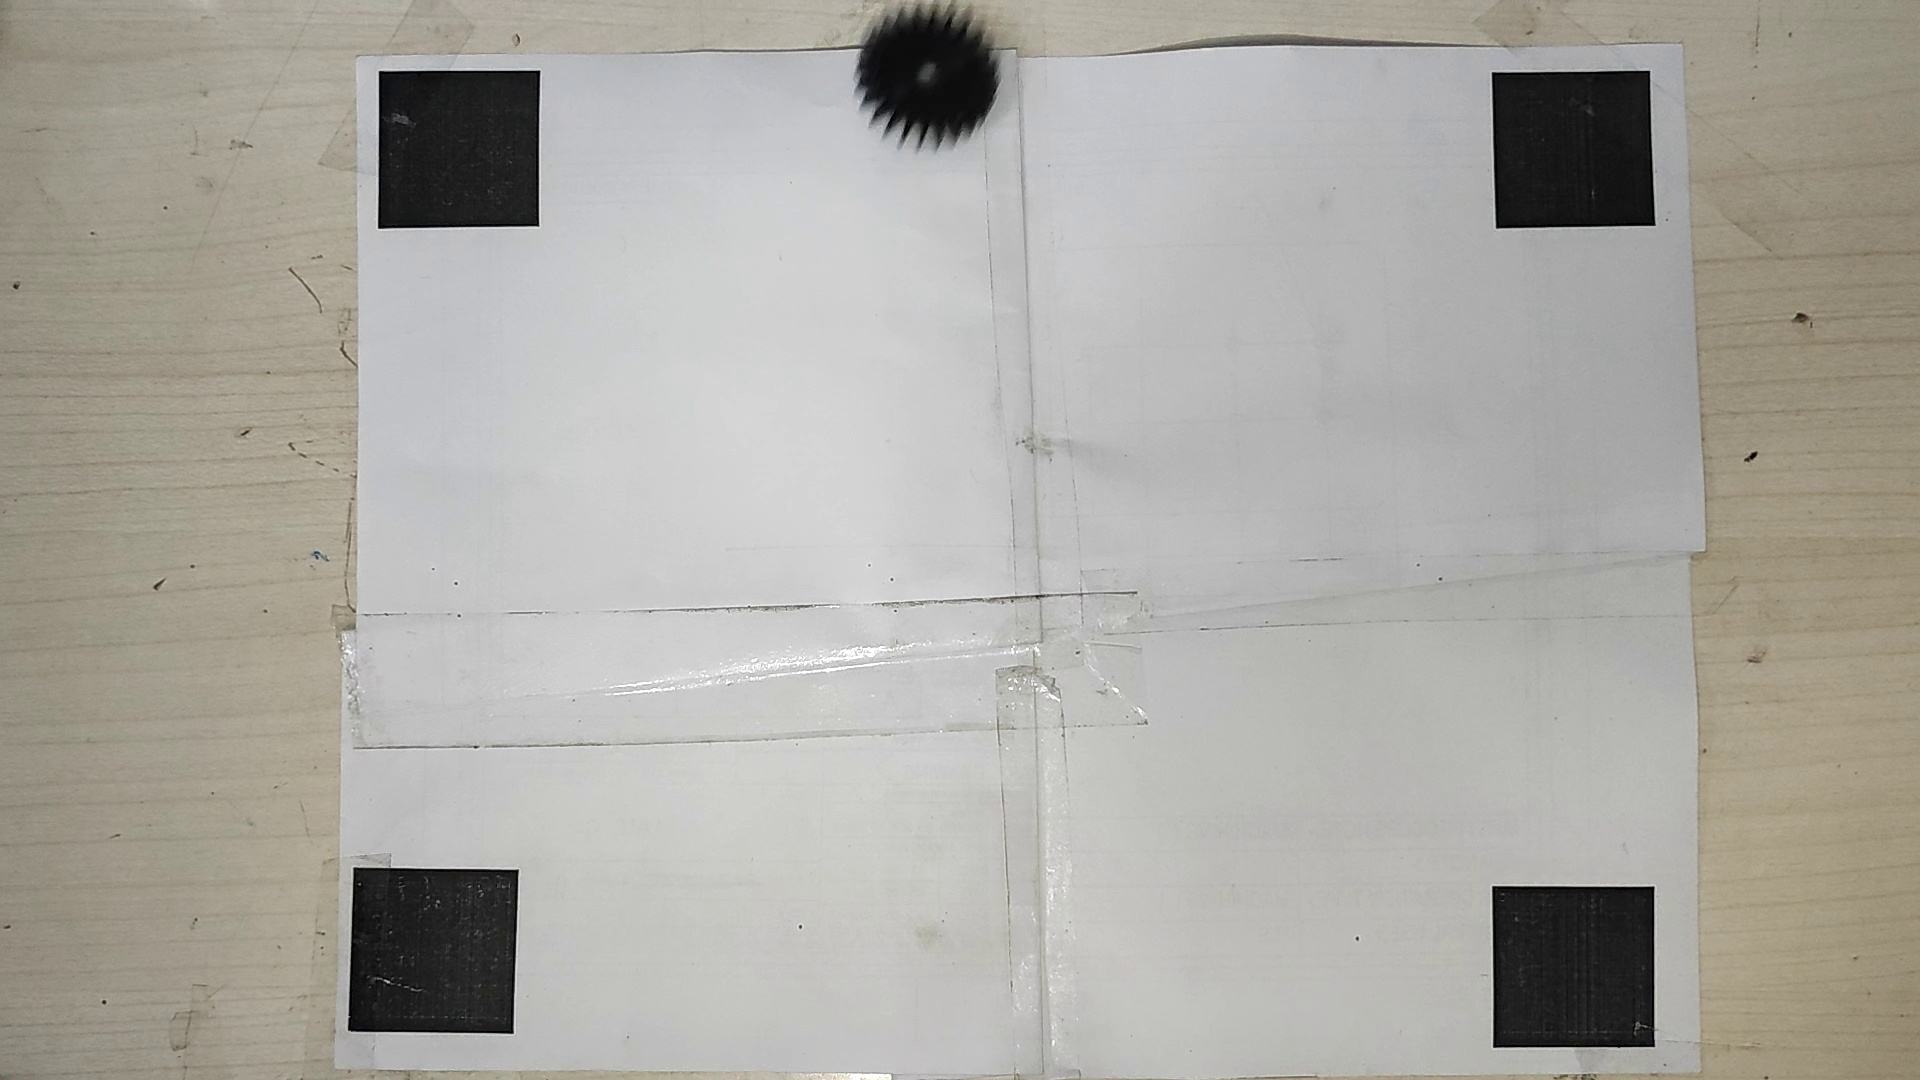Gear: (856, 0, 997, 152)
